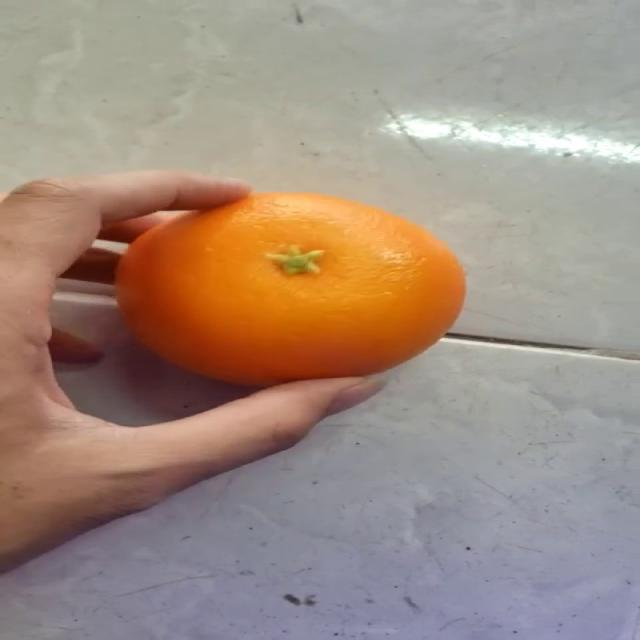Orange: (113, 189, 467, 387)
